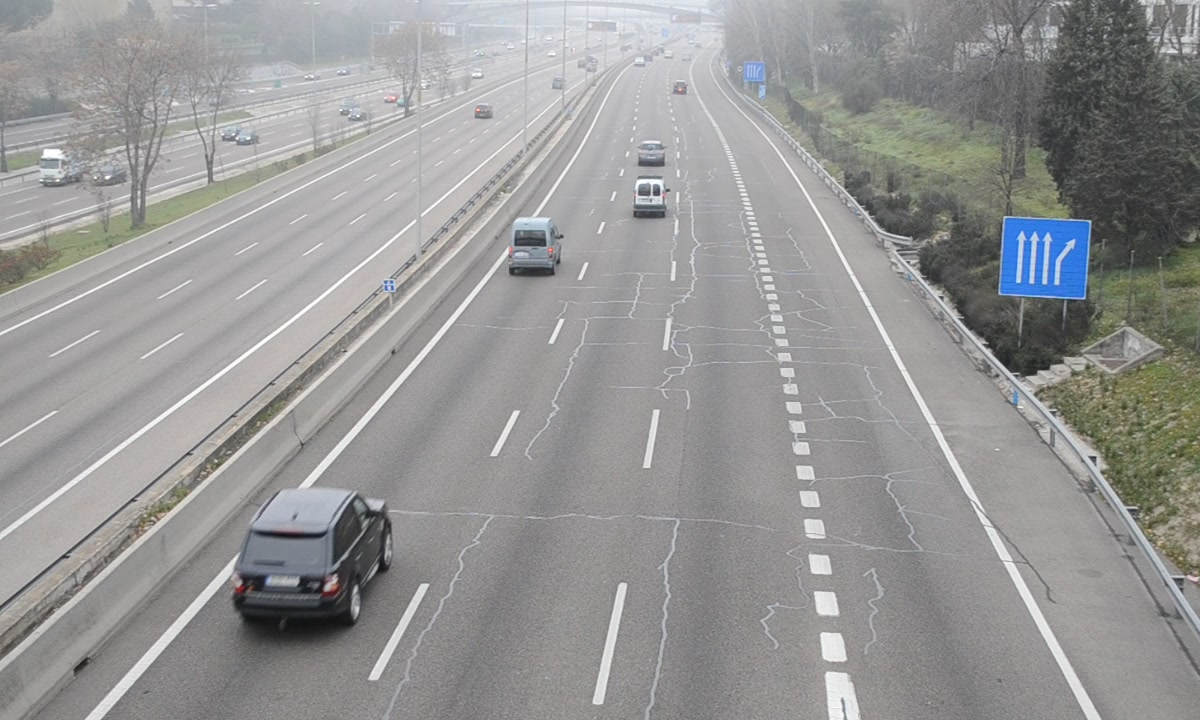car: (234, 489, 389, 624), (635, 139, 666, 166)
van: (510, 217, 563, 273), (632, 175, 666, 217)
